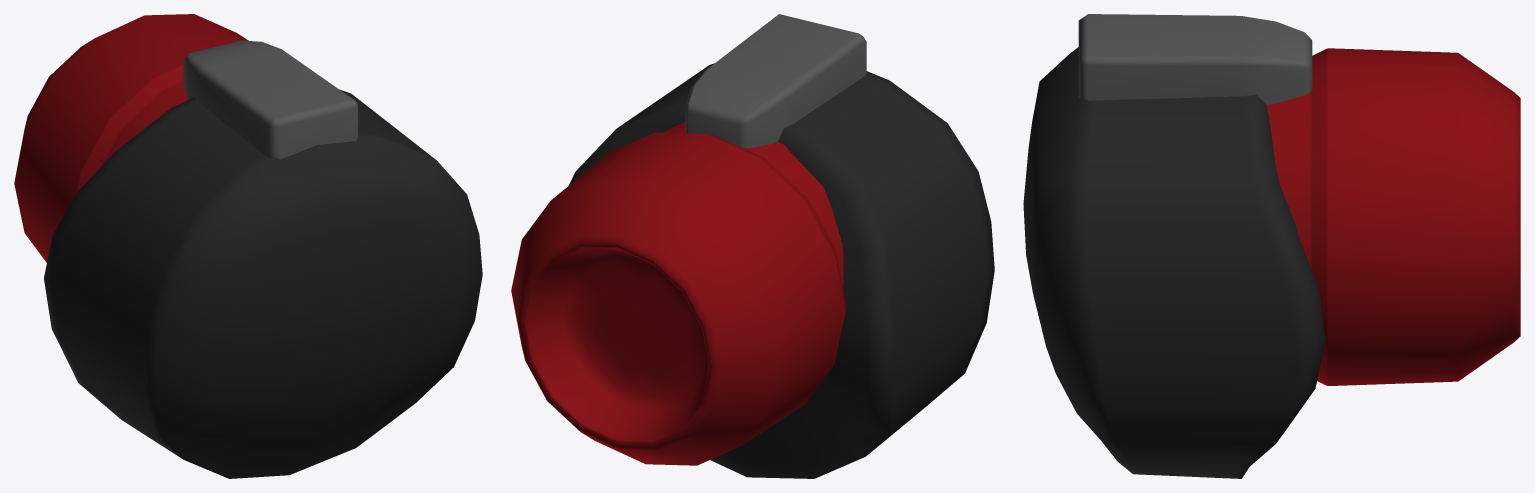
Rendered from Ship_enemy_11_Engine.fbx.
3 views of the same model, side by side, from view 1: azimuth 30°, elevation 25°; view 2: azimuth 150°, elevation 25°; view 3: azimuth 270°, elevation 25° (orthographic). The views are drawn at different scales.
Visible parts, largest first — view 1: Ship_enemy_11_Engine; view 2: Ship_enemy_11_Engine; view 3: Ship_enemy_11_Engine.
Part boxes in pixels (x1,y1,x2,y2): Ship_enemy_11_Engine: [14, 14, 482, 478]; Ship_enemy_11_Engine: [511, 14, 994, 478]; Ship_enemy_11_Engine: [1023, 14, 1520, 478].
Size of the model in its own units: 132 by 146 by 154.
